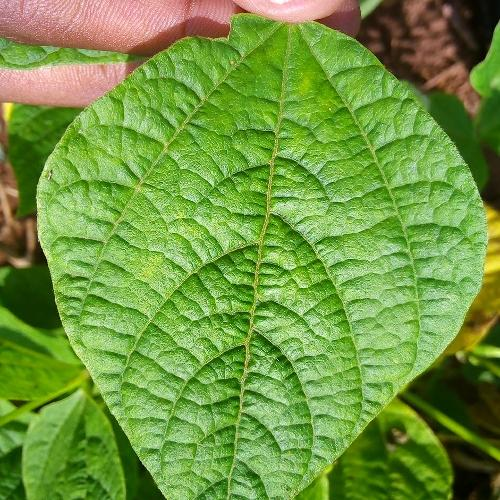sehat: (114, 87, 450, 452)
